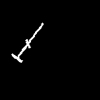double_crochet: (12, 23, 42, 61)
